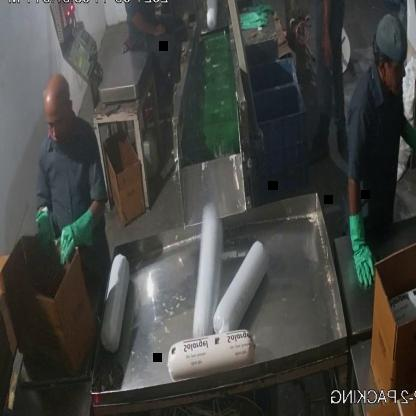glove: (338, 209, 382, 297), (58, 205, 92, 269), (34, 204, 54, 265)
no_glove: (318, 0, 341, 70), (128, 11, 168, 45)
